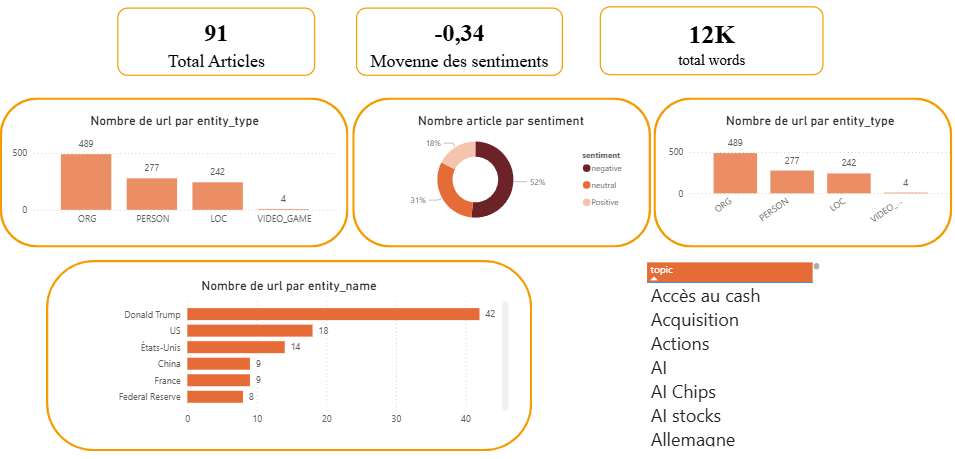

Layout of this report page (visuals, bound fields, positions):
{"tool":"powerbi","page":{"name":"Page 1","canvas":[1280,720],"ordinal":0},"visuals":[{"type":"clusteredColumnChart","fields":{"Y":["Entities.url"],"Category":["Entities.entity_type"]},"box":[16.7,256.7,443.3,160],"z":0},{"type":"shape","box":[66.7,453.3,648.3,255],"z":1000},{"type":"donutChart","fields":{"Category":["Articles.sentiment_label"],"Y":["Articles.url"]},"box":[491.7,256.7,363.3,160],"z":2000},{"type":"card","fields":{"Values":["Articles.url"]},"box":[161.9,116.3,264.2,91.3],"z":3000},{"type":"card","fields":{"Values":["Articles.sentiment_score"]},"box":[479.4,116.3,275.8,91.3],"z":4000},{"type":"card","fields":{"Values":["Articles.word_count"]},"box":[804.4,115.5,298.5,92.2],"z":5000},{"type":"textbox","box":[0,6,1280,84.5],"z":6000},{"type":"shape","box":[475,236.7,398.3,200],"z":7000},{"type":"shape","box":[5,236.7,465,200],"z":8000},{"type":"clusteredColumnChart","fields":{"Y":["Entities.url"],"Category":["Entities.entity_type"]},"box":[891.7,256.7,388.3,160],"z":9000},{"type":"shape","box":[876.7,236.7,398.3,200],"z":10000},{"type":"clusteredBarChart","fields":{"Category":["Entities.entity_name"],"Y":["Entities.url"]},"box":[93.3,476.7,595,206.7],"z":11000},{"type":"tableEx","fields":{"Values":["Topics.topic"]},"box":[861.7,451.7,241.7,255],"z":12000}]}

Visuals, with their boxes on the page's 1280x720 design canvas (x1, y1, x2, y2). These are canvas units, not pixel positions in the 955x459 screenshot, which may show the page scaled, cropped or inside an application window:
clusteredColumnChart - Entities.url x Entities.entity_type: select_region(17, 257, 460, 417)
shape: select_region(67, 453, 715, 708)
donutChart - Articles.sentiment_label x Articles.url: select_region(492, 257, 855, 417)
card - Articles.url: select_region(162, 116, 426, 208)
card - Articles.sentiment_score: select_region(479, 116, 755, 208)
card - Articles.word_count: select_region(804, 116, 1103, 208)
textbox: select_region(0, 6, 1280, 90)
shape: select_region(475, 237, 873, 437)
shape: select_region(5, 237, 470, 437)
clusteredColumnChart - Entities.url x Entities.entity_type: select_region(892, 257, 1280, 417)
shape: select_region(877, 237, 1275, 437)
clusteredBarChart - Entities.entity_name x Entities.url: select_region(93, 477, 688, 683)
tableEx - Topics.topic: select_region(862, 452, 1103, 707)
